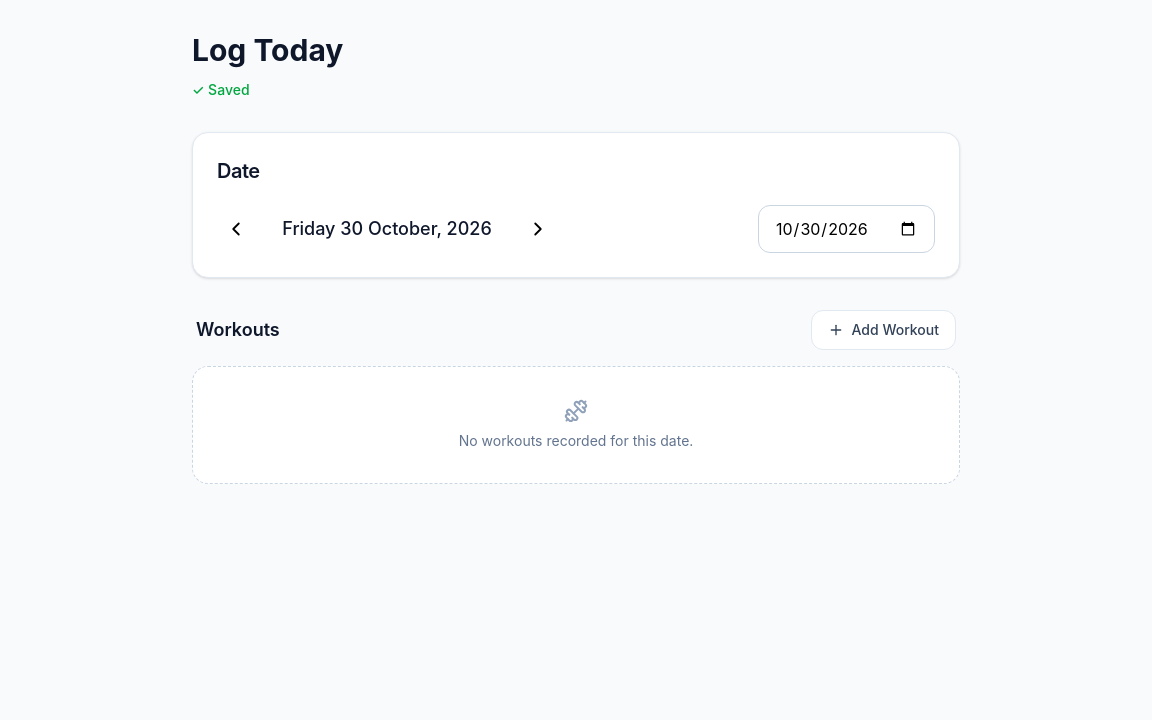
Test case: LogWorkoutMetrics › adds a new workout
Click the button "Add Workout": point(883, 330) [810,310,956,350]
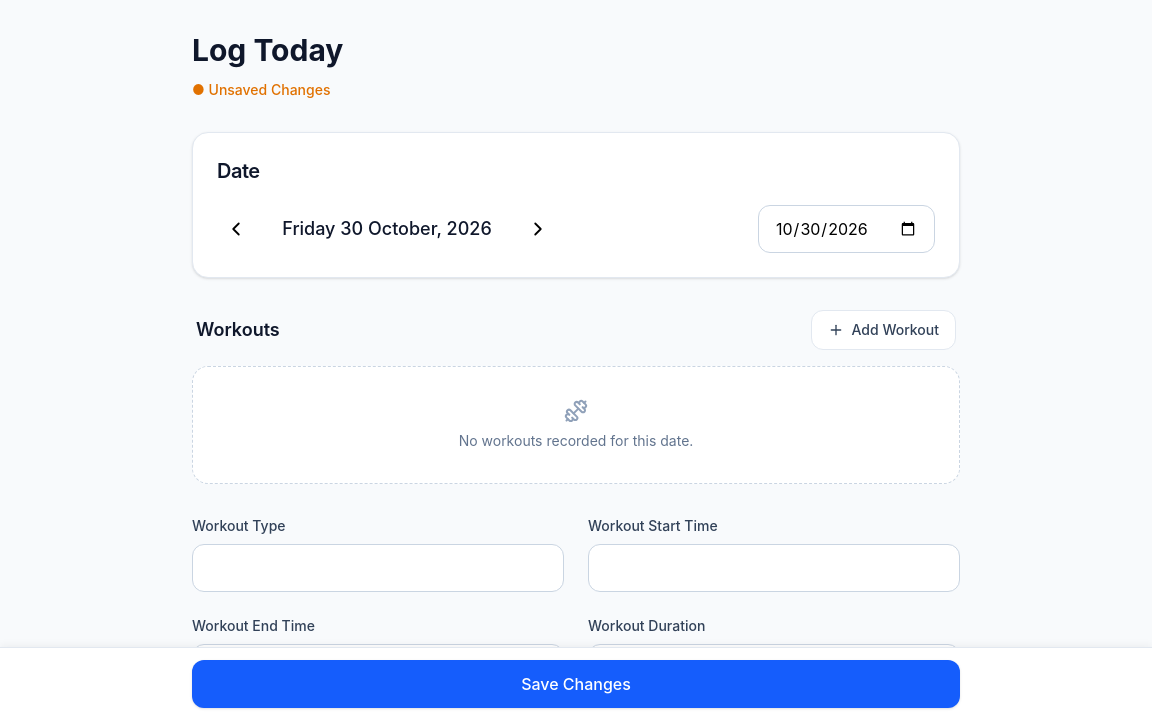
Expected: the field labelled "Workout Type" is empty, [192,544,564,592]
Result: the text "● Unsaved Changes" is shown at [192,80,330,100]
Result: the button "Save Changes" is enabled at [192,660,960,708]
